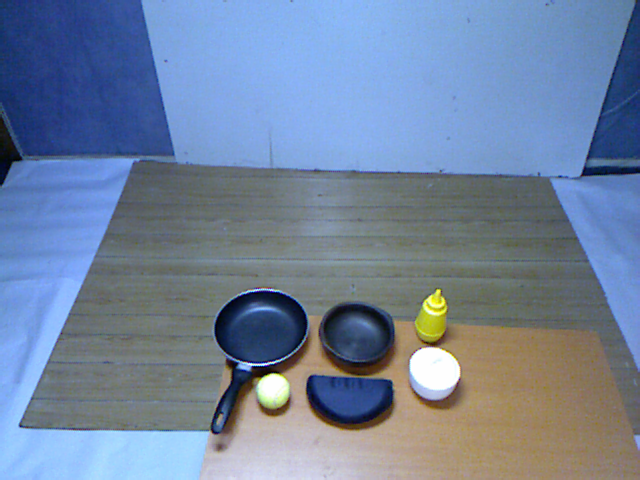azucarero: (403, 345, 466, 406)
estuche: (302, 367, 400, 430)
greda: (312, 295, 399, 373)
mostaza: (410, 284, 454, 346)
pelota: (252, 368, 293, 414)
sarten: (197, 285, 314, 440)
